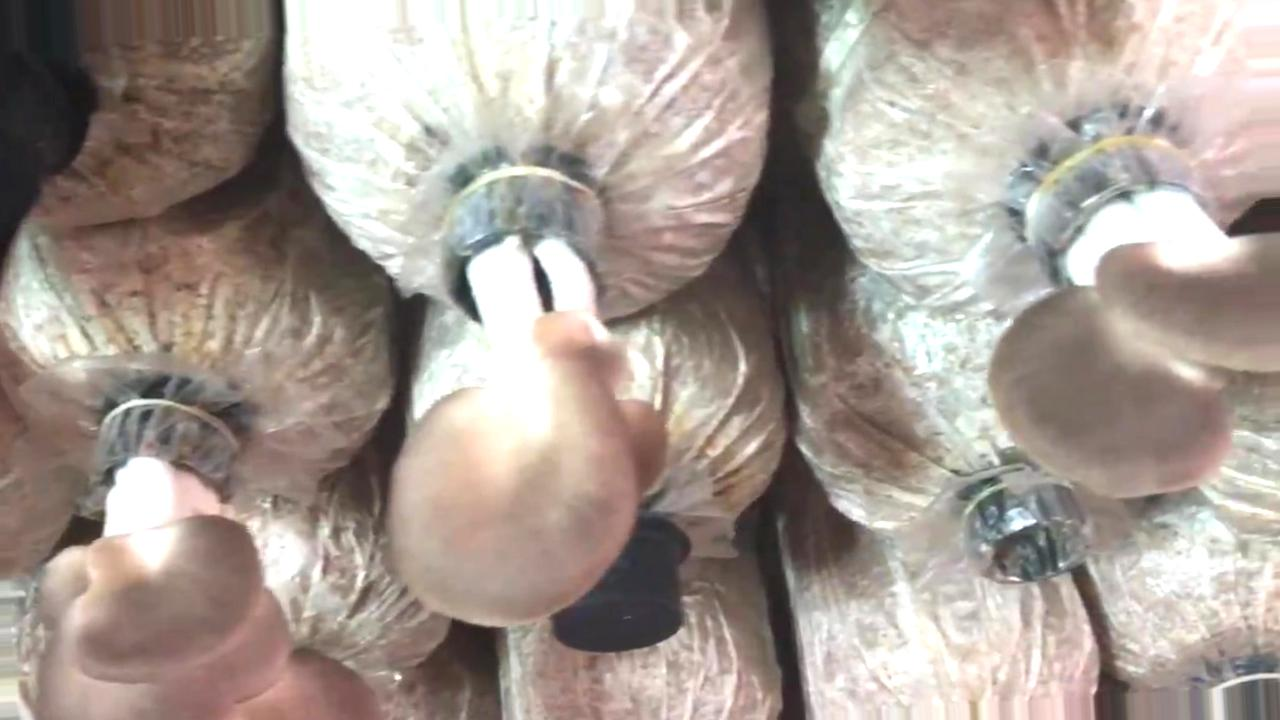nam: (391, 172, 666, 628), (988, 133, 1280, 498), (35, 409, 377, 720)
